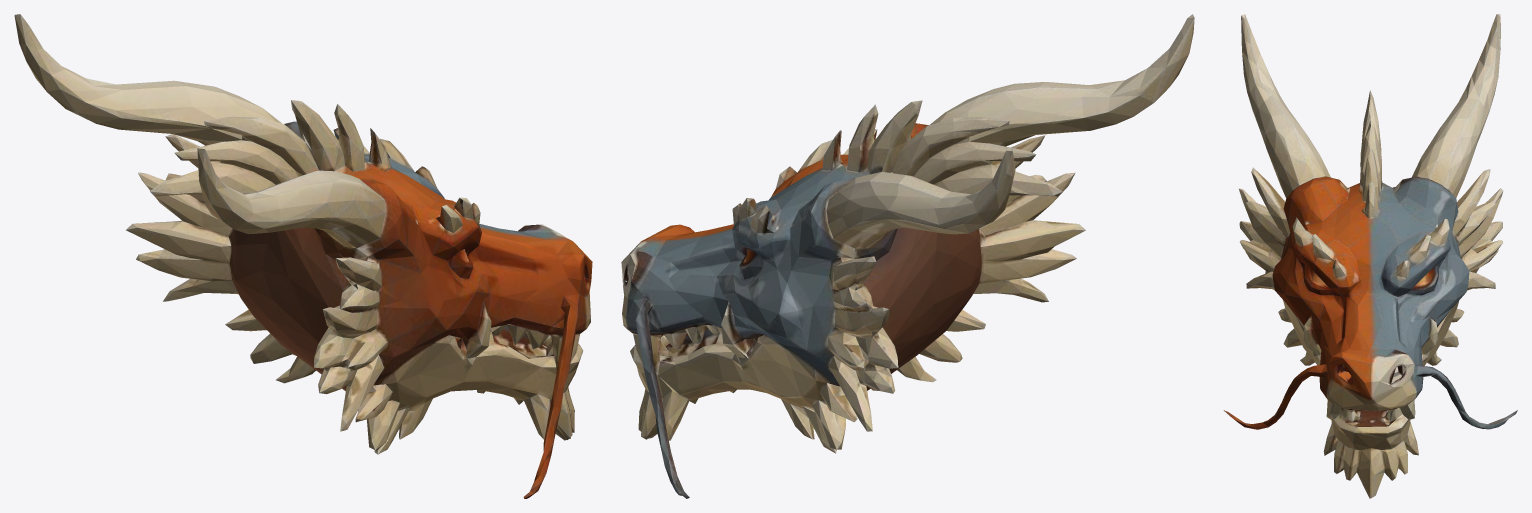
Rendered from foe_dragon.glb.
3 renders of one model, left to right at view 1: azimuth 30°, elevation 25°; view 2: azimuth 150°, elevation 25°; view 3: azimuth 270°, elevation 25°, orthographic. The views are drawn at different scales.
Visible parts, largest first — view 1: tripo_node_ac2b8044-31c1-4f14-83d3-37952f056384.001; view 2: tripo_node_ac2b8044-31c1-4f14-83d3-37952f056384.001; view 3: tripo_node_ac2b8044-31c1-4f14-83d3-37952f056384.001.
Part boxes in pixels (x1,y1,x2,y2): tripo_node_ac2b8044-31c1-4f14-83d3-37952f056384.001: (14,14,592,498); tripo_node_ac2b8044-31c1-4f14-83d3-37952f056384.001: (621,14,1194,498); tripo_node_ac2b8044-31c1-4f14-83d3-37952f056384.001: (1223,14,1517,498).
Size of the model in its own units: 0.9995 by 0.9288 by 0.7562.
Materials: 1 (1 with a texture image).
